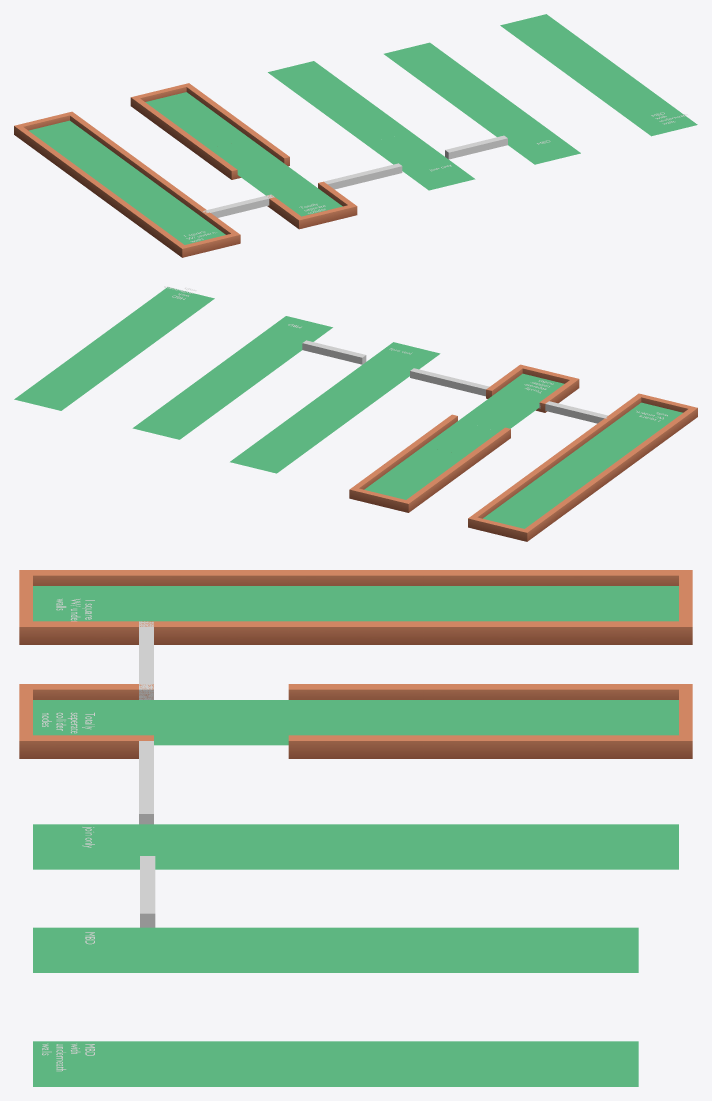
File: bumps-test-course.glb
3 views of the same model, one above another, from view 1: azimuth 30°, elevation 25°; view 2: azimuth 150°, elevation 25°; view 3: azimuth 270°, elevation 25° (orthographic). The views are drawn at different scales.
Visible parts, largest first — view 1: floor2-col.002, floor2-col.003, floor2-col.004, floor2-col.001, end.001-col.001, floor3-col, end.001-col, floor3-col.001, floor3-col.002, end-col, end-col.001, floor1-col (+9 smaller); view 2: floor2-col.002, floor2-col.003, floor2-col.004, floor2-col.001, end-col, end-col.001, floor3-col, floor3-col.002, floor3-col.001, end.001-col, end.001-col.001, floor2-col (+9 smaller); view 3: floor2-col.002, floor2-col.004, floor2-col.003, floor2-col.001, floor3-col, end-col, end-col.001, end.001-col.001, end.001-col, straight.001-col.001, straight.002-col, straight.001-col (+9 smaller).
Part boxes in pixels (x1=…): floor2-col.002: x1=268, y1=61, x2=475, y2=190; floor2-col.003: x1=500, y1=14, x2=697, y2=136; floor2-col.004: x1=384, y1=42, x2=580, y2=164; floor2-col.001: x1=29, y1=120, x2=225, y2=244; end.001-col.001: x1=148, y1=211, x2=240, y2=257; floor3-col: x1=238, y1=163, x2=317, y2=197; end.001-col: x1=266, y1=181, x2=357, y2=229; floor3-col.001: x1=209, y1=139, x2=283, y2=174; floor3-col.002: x1=176, y1=114, x2=250, y2=148; end-col: x1=130, y1=83, x2=222, y2=130; end-col.001: x1=14, y1=111, x2=105, y2=158; floor1-col: x1=145, y1=92, x2=216, y2=124; floor2-col.002: x1=230, y1=342, x2=440, y2=473; floor2-col.003: x1=14, y1=287, x2=214, y2=410; floor2-col.004: x1=132, y1=316, x2=332, y2=439; floor2-col.001: x1=483, y1=402, x2=682, y2=528; end-col: x1=349, y1=464, x2=442, y2=512; end-col.001: x1=468, y1=493, x2=561, y2=541; floor3-col: x1=458, y1=396, x2=538, y2=431; floor3-col.002: x1=390, y1=446, x2=465, y2=481; floor3-col.001: x1=424, y1=421, x2=499, y2=456; end.001-col: x1=486, y1=364, x2=579, y2=412; end.001-col.001: x1=605, y1=393, x2=697, y2=441; floor2-col: x1=492, y1=373, x2=564, y2=407; floor2-col.002: x1=33, y1=824, x2=678, y2=869; floor2-col.004: x1=33, y1=927, x2=638, y2=972; floor2-col.003: x1=33, y1=1041, x2=638, y2=1086; floor2-col.001: x1=33, y1=586, x2=678, y2=621; floor3-col: x1=154, y1=700, x2=288, y2=745; end-col: x1=558, y1=684, x2=692, y2=758; end-col.001: x1=558, y1=570, x2=692, y2=644; end.001-col.001: x1=19, y1=570, x2=153, y2=644; end.001-col: x1=19, y1=684, x2=153, y2=758; straight.001-col.001: x1=288, y1=570, x2=423, y2=644; straight.002-col: x1=288, y1=684, x2=423, y2=758; straight.001-col: x1=154, y1=570, x2=288, y2=644.
Bounding box in the file's own units: 8.9 × 0.1761 × 5.
Materials: 3 (3 with a texture image).
